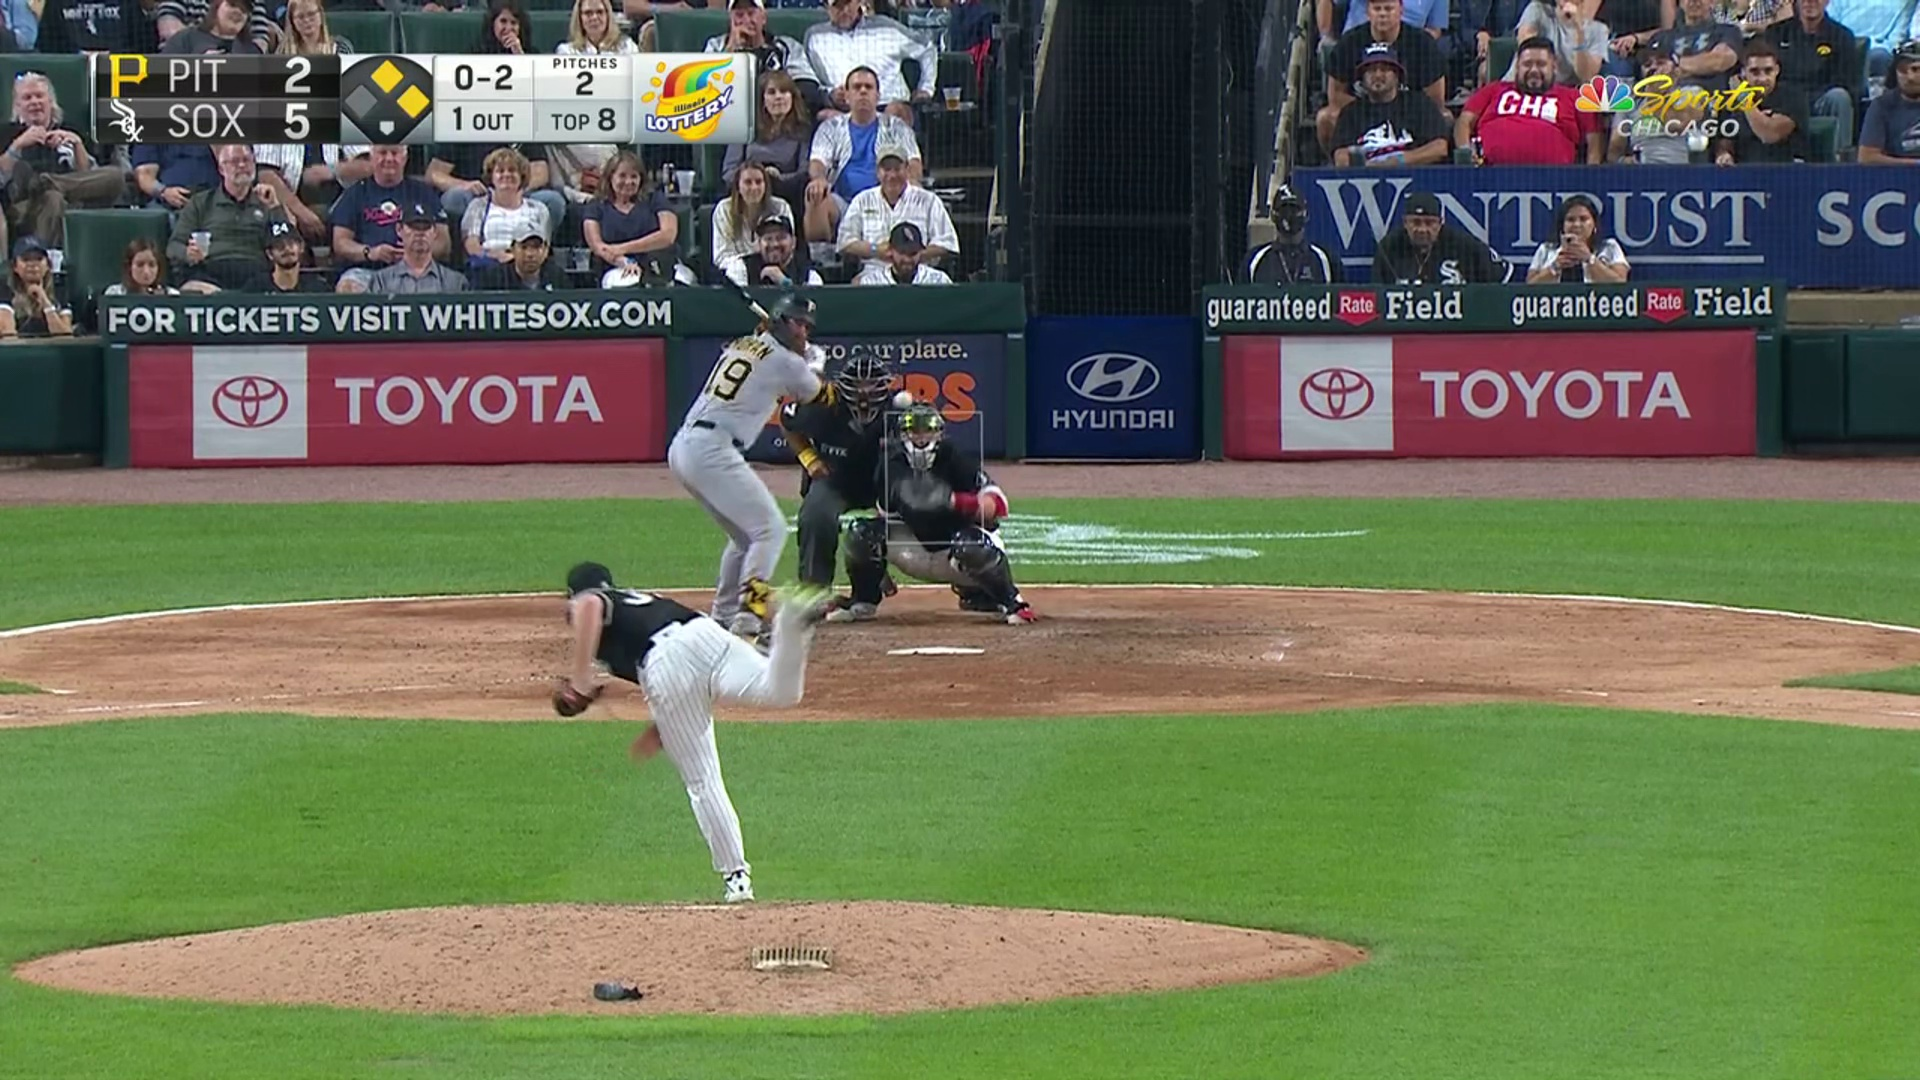baseball: (891, 389, 911, 407)
